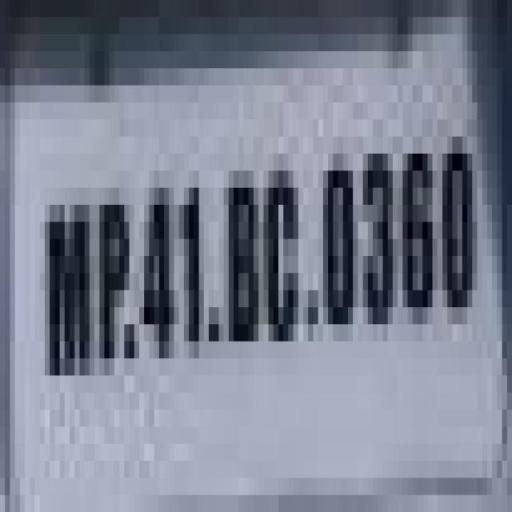number plate: (14, 17, 512, 443)
